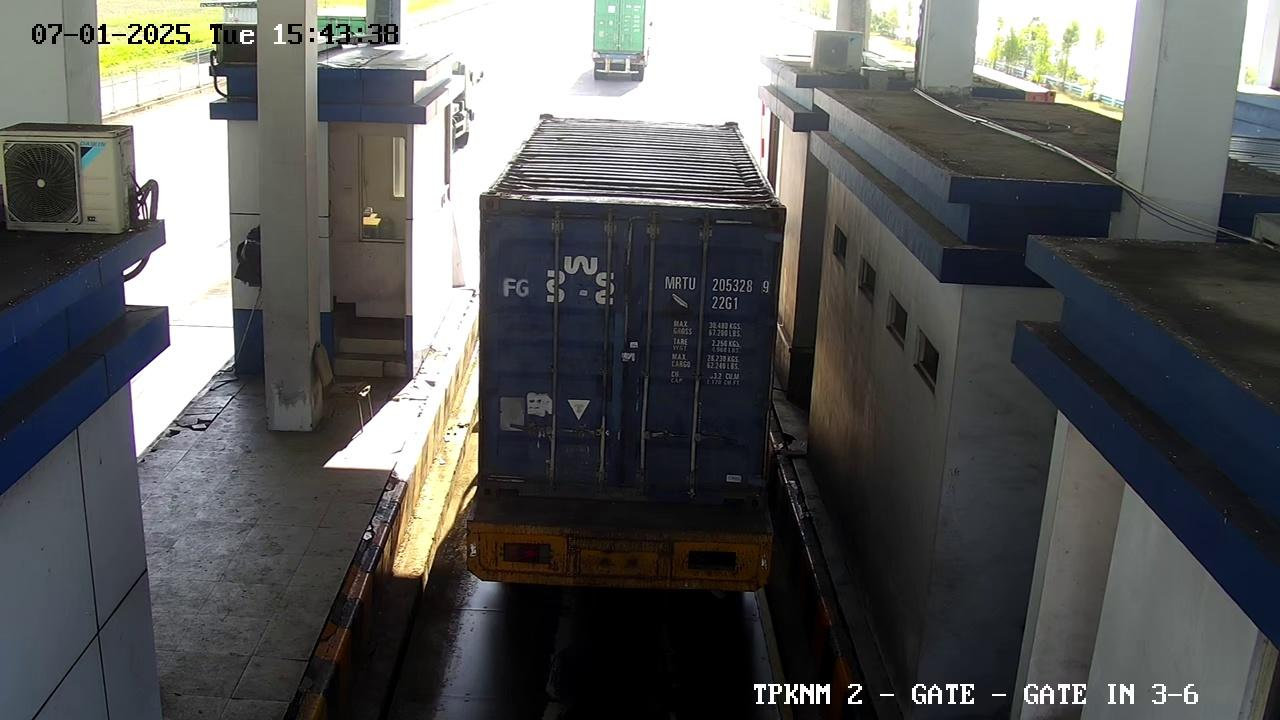Container_ID: (660, 272, 776, 297)
